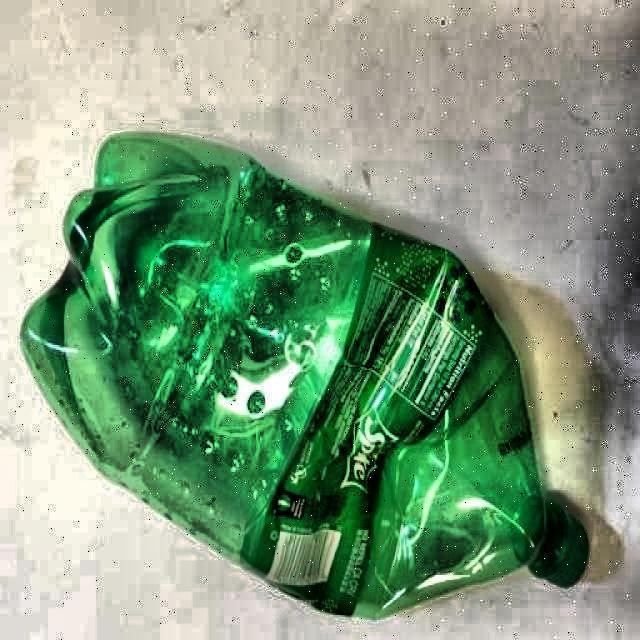plastic: (18, 130, 591, 621)
